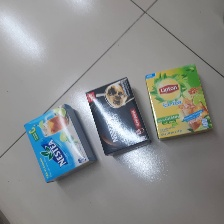CF Viet: (86, 76, 150, 157)
LipTon: (144, 64, 216, 140)
Nestea: (24, 104, 94, 184)
